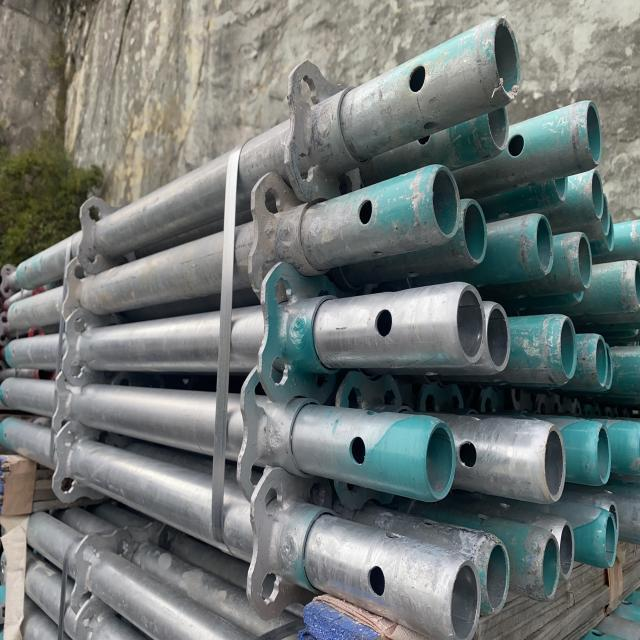pipe: (438, 274, 492, 372), (474, 7, 526, 107), (412, 411, 463, 511), (419, 154, 466, 246), (535, 308, 582, 396), (526, 418, 569, 506), (438, 560, 481, 636), (576, 420, 617, 495), (457, 188, 492, 274), (528, 522, 563, 608), (480, 294, 514, 382), (482, 534, 512, 630), (522, 210, 560, 284), (583, 509, 619, 576), (480, 89, 513, 160), (579, 94, 605, 170), (567, 228, 595, 296), (552, 518, 576, 590), (584, 332, 608, 393), (548, 152, 572, 211), (600, 504, 622, 558), (586, 163, 604, 224), (621, 258, 640, 314), (598, 340, 616, 395), (594, 189, 612, 243), (602, 204, 616, 256)
